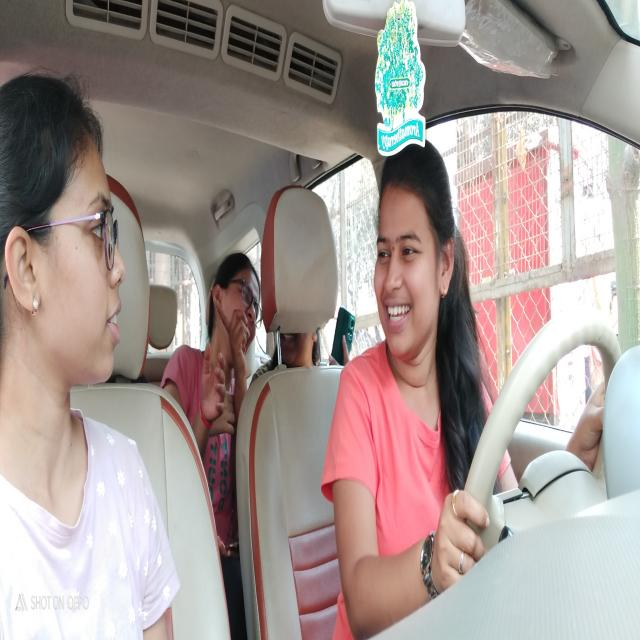LeftRight: (370, 125, 460, 396)
person: (0, 67, 129, 420), (210, 232, 264, 380)
talking: (381, 299, 416, 330)
